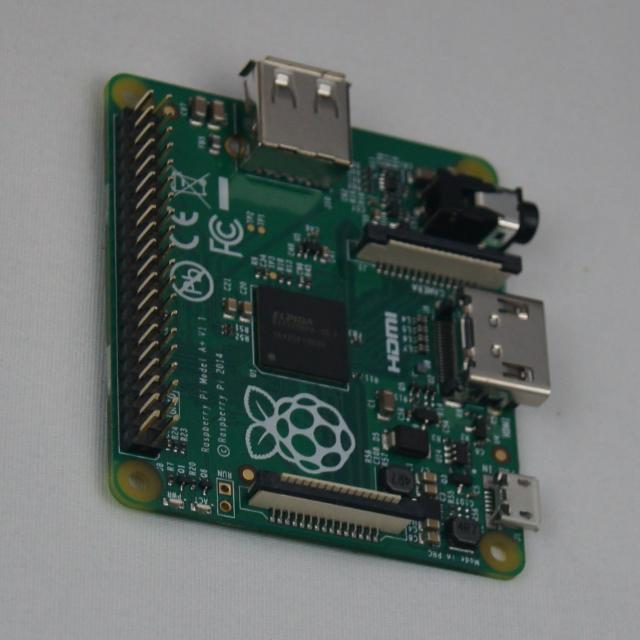Raspberry-Pi-1-A-: (107, 58, 550, 578)
